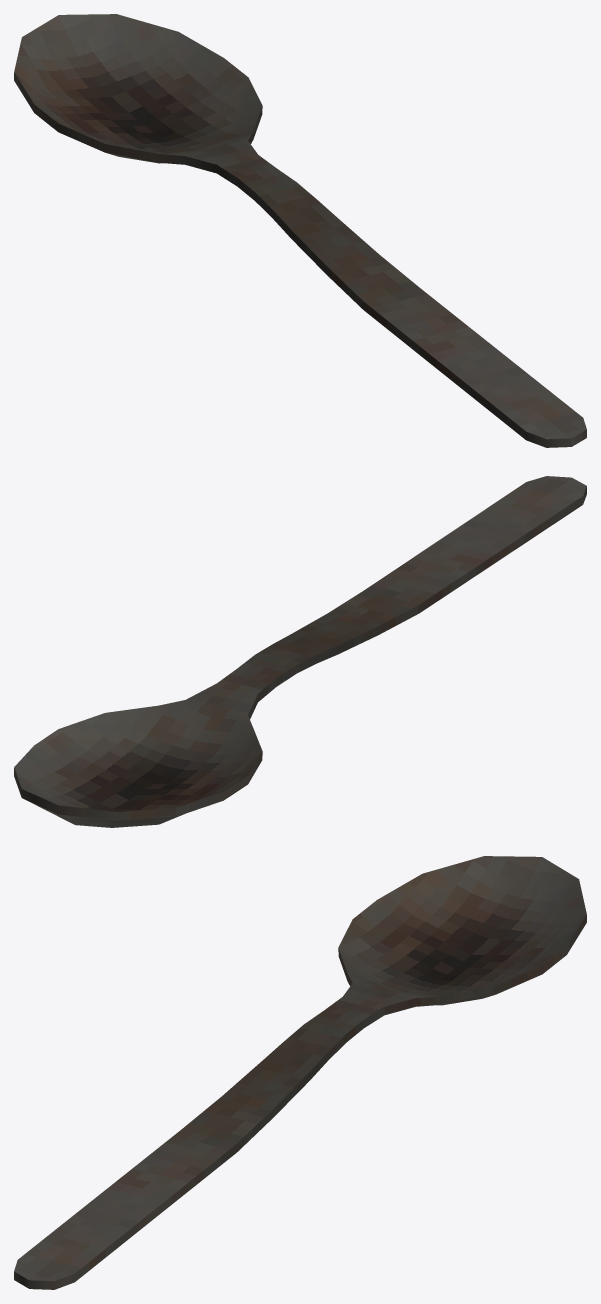
Rendered from spoon_mp_1.glb.
The picture shows the model from 3 angles, top to bottom: view 1: azimuth 30°, elevation 25°; view 2: azimuth 150°, elevation 25°; view 3: azimuth 330°, elevation 25°; orthographic projection.
Parts seen in each view (by area): view 1: spoon_mp_1; view 2: spoon_mp_1; view 3: spoon_mp_1.
Part boxes in pixels (<box>): spoon_mp_1: <box>14,14,586,447</box>; spoon_mp_1: <box>14,476,586,827</box>; spoon_mp_1: <box>14,856,586,1289</box>.
Bounding box in the file's own units: 0.0585 × 0.0168 × 0.2741.
Materials: 1 (1 with a texture image).
